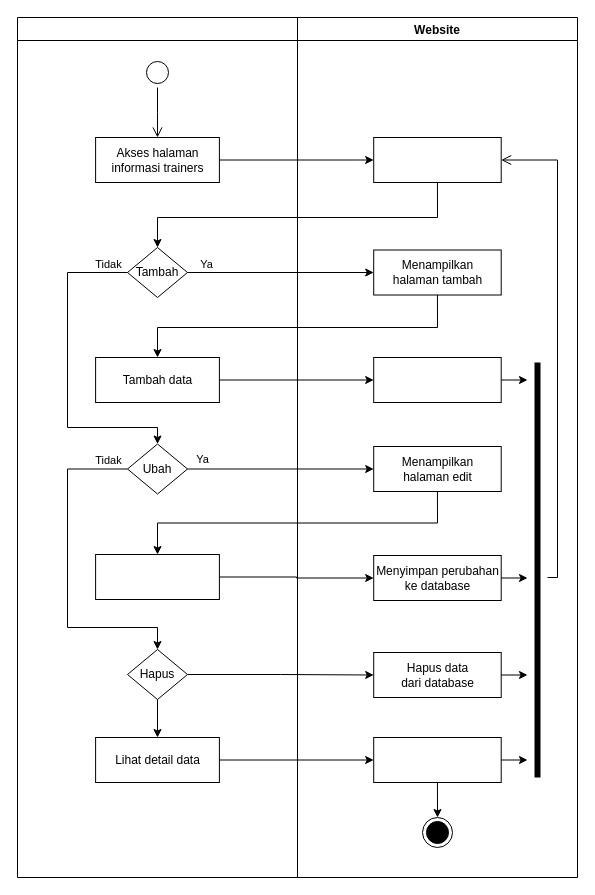
This 595x895 diagram has some shape labels left out. Each missing label, with the box of its shape:
Admin: (16, 16, 298, 878)
Menampilkan detail data: (373, 736, 501, 782)
Menampilkan halaman informasi trainers: (373, 136, 501, 182)
Proses tambah ke database: (373, 356, 501, 402)
Ubah data: (95, 554, 219, 600)
